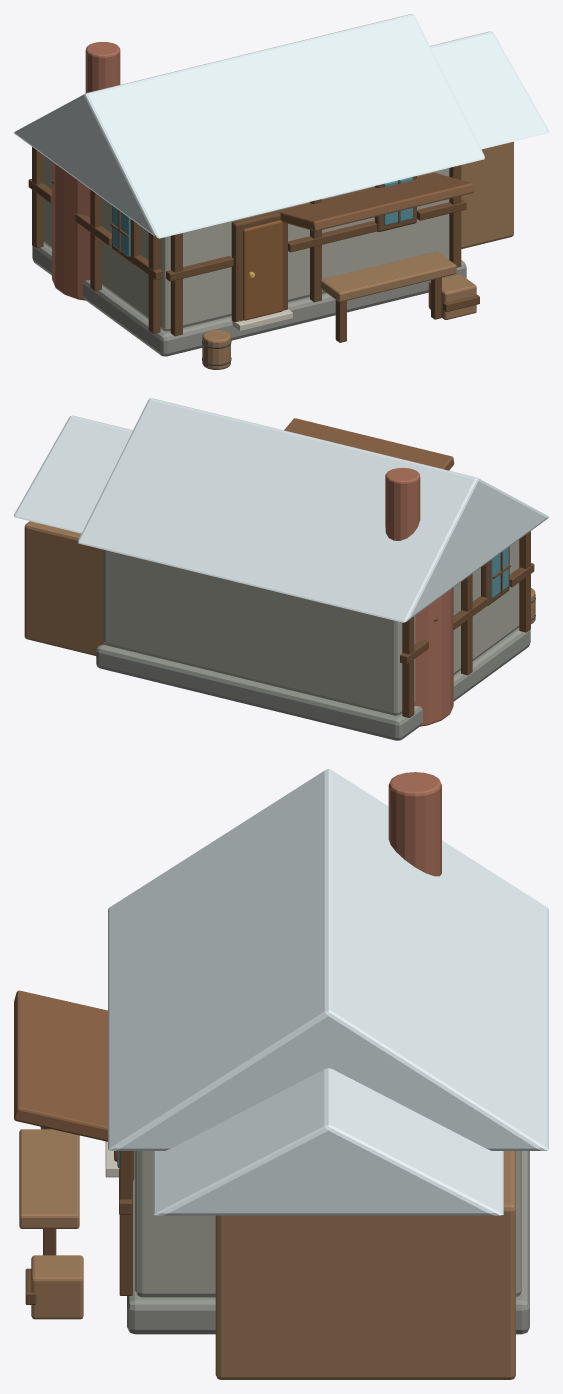
File: snowy-artisan-2.glb
The picture shows the model from 3 angles, top to bottom: view 1: azimuth 30°, elevation 25°; view 2: azimuth 150°, elevation 25°; view 3: azimuth 270°, elevation 25°; orthographic projection. The views are drawn at different scales.
Visible parts, largest first — view 1: Snow, Fieldstone, Dark beams, Aged oak, Foundation stone, Chimney brick, Wood shingles, Door oak, Blue glass, Cut limestone; view 2: Snow, Fieldstone, Foundation stone, Aged oak, Chimney brick, Dark beams, Wood shingles, Blue glass; view 3: Snow, Aged oak, Wood shingles, Fieldstone, Foundation stone, Chimney brick, Dark beams.
Part boxes in pixels (x1=…): Snow: x1=14, y1=14, x2=548, y2=238; Fieldstone: x1=43, y1=155, x2=449, y2=331; Dark beams: x1=28, y1=147, x2=479, y2=342; Aged oak: x1=202, y1=141, x2=513, y2=369; Foundation stone: x1=32, y1=243, x2=466, y2=356; Chimney brick: x1=52, y1=42, x2=120, y2=300; Wood shingles: x1=279, y1=172, x2=473, y2=231; Door oak: x1=243, y1=220, x2=282, y2=320; Blue glass: x1=112, y1=177, x2=412, y2=256; Cut limestone: x1=231, y1=309, x2=292, y2=331; Snow: x1=14, y1=398, x2=548, y2=622; Fieldstone: x1=103, y1=540, x2=519, y2=715; Foundation stone: x1=96, y1=627, x2=530, y2=740; Aged oak: x1=24, y1=521, x2=535, y2=655; Chimney brick: x1=385, y1=468, x2=453, y2=726; Dark beams: x1=400, y1=531, x2=534, y2=717; Wood shingles: x1=284, y1=418, x2=454, y2=470; Blue glass: x1=491, y1=547, x2=508, y2=598; Snow: x1=108, y1=769, x2=548, y2=1215; Aged oak: x1=19, y1=1126, x2=515, y2=1379; Wood shingles: x1=14, y1=990, x2=107, y2=1141; Fieldstone: x1=135, y1=1151, x2=521, y2=1297; Foundation stone: x1=127, y1=1151, x2=529, y2=1334; Chimney brick: x1=388, y1=772, x2=441, y2=876; Dark beams: x1=25, y1=1151, x2=134, y2=1304.
Bounding box in the file's own units: 5.38 × 2.93 × 4.01.
